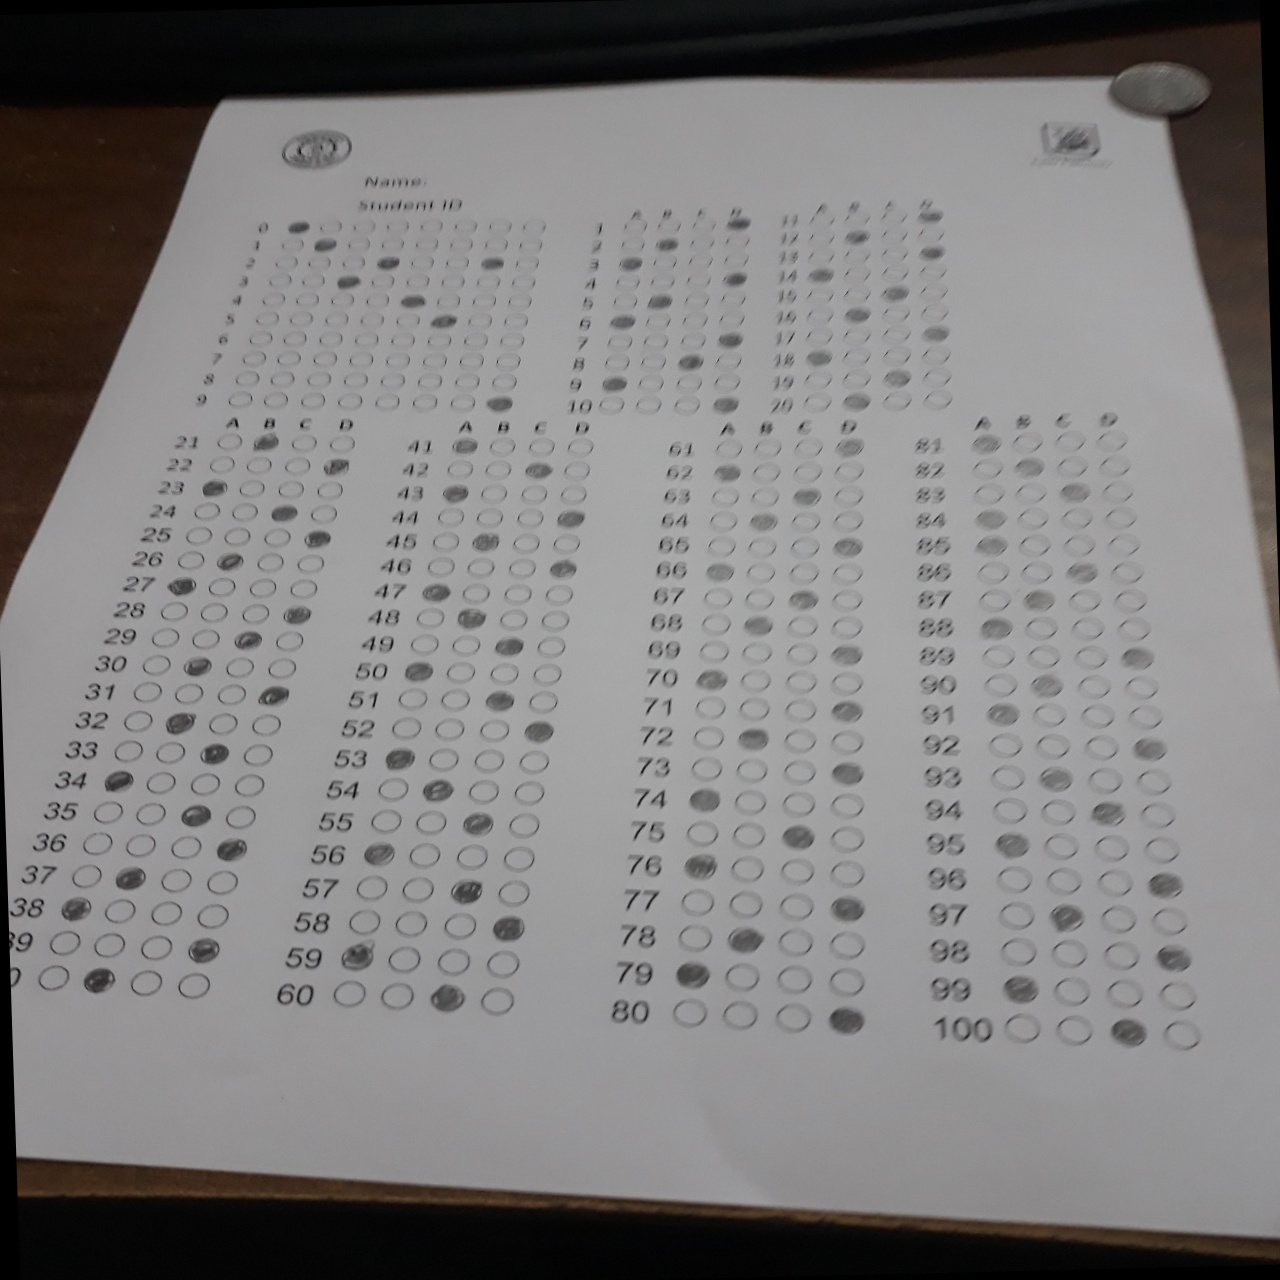not-c: (668, 995, 713, 1030), (673, 921, 716, 955), (775, 927, 817, 960), (720, 1001, 761, 1034), (1053, 1015, 1095, 1047), (1104, 978, 1143, 1012), (1101, 939, 1141, 972), (772, 1003, 813, 1035), (1144, 835, 1182, 869), (1097, 867, 1136, 900), (1099, 903, 1138, 935), (1005, 1009, 1041, 1043), (1138, 799, 1176, 832), (1075, 674, 1114, 704), (1087, 767, 1125, 797), (774, 891, 813, 920), (781, 757, 821, 787), (828, 728, 867, 757), (1117, 611, 1151, 645), (1067, 586, 1104, 617), (1070, 644, 1108, 674), (1055, 454, 1092, 484), (1051, 427, 1089, 457), (1009, 428, 1047, 458), (1054, 975, 1092, 1005), (726, 961, 764, 990), (726, 888, 764, 918), (779, 857, 818, 886), (825, 823, 864, 852), (781, 789, 819, 818), (690, 754, 729, 783), (779, 723, 818, 753), (1068, 615, 1107, 645), (1126, 702, 1165, 731), (1082, 734, 1121, 763), (1095, 835, 1131, 865), (1158, 982, 1196, 1012), (777, 965, 815, 994), (1123, 674, 1160, 703), (1078, 704, 1116, 734), (1162, 1021, 1200, 1049), (678, 887, 716, 915), (727, 821, 765, 849), (730, 785, 769, 813), (731, 755, 770, 783), (693, 722, 729, 751), (692, 692, 728, 721), (782, 693, 818, 722), (826, 968, 864, 996), (828, 930, 865, 958), (685, 819, 722, 847), (826, 790, 864, 818), (828, 667, 864, 695), (484, 948, 520, 976), (478, 986, 515, 1014), (379, 982, 415, 1010), (46, 927, 82, 955), (142, 932, 178, 960), (828, 862, 865, 888), (730, 855, 768, 881), (737, 693, 772, 721), (438, 946, 474, 974), (91, 930, 127, 958), (333, 980, 369, 1007), (176, 971, 212, 998), (195, 903, 231, 930), (67, 862, 103, 888), (1097, 452, 1133, 479), (1051, 940, 1089, 966), (127, 971, 162, 998), (36, 962, 72, 989), (995, 866, 1032, 892), (1153, 908, 1190, 934), (694, 638, 730, 663), (149, 899, 185, 925), (100, 898, 136, 924), (158, 867, 195, 893), (1095, 429, 1131, 455), (1102, 506, 1138, 532), (1110, 561, 1146, 587), (1041, 835, 1078, 859), (740, 639, 777, 663), (701, 584, 738, 608), (745, 461, 783, 485), (203, 866, 240, 891), (696, 611, 731, 636), (166, 835, 202, 860), (1099, 481, 1135, 506), (1107, 535, 1142, 560), (1047, 867, 1083, 892), (1000, 903, 1036, 927), (1001, 940, 1037, 965), (783, 667, 819, 692), (738, 667, 775, 692), (704, 508, 741, 532), (704, 483, 741, 508), (139, 651, 172, 678), (829, 587, 866, 611), (787, 508, 824, 531), (113, 738, 147, 764), (1114, 588, 1148, 614), (1039, 798, 1074, 823), (785, 641, 821, 666), (741, 532, 776, 557), (710, 437, 745, 462), (994, 797, 1026, 824), (401, 876, 433, 903), (743, 586, 779, 610), (831, 561, 867, 585), (789, 559, 825, 583), (742, 559, 778, 583), (788, 533, 824, 557), (829, 510, 865, 533), (830, 485, 866, 509), (829, 459, 865, 483), (787, 459, 823, 483), (748, 436, 784, 459), (990, 764, 1023, 790), (355, 873, 388, 899), (93, 799, 125, 825), (134, 799, 166, 825), (225, 801, 258, 826), (233, 772, 266, 798), (156, 738, 189, 764), (240, 740, 273, 765), (135, 679, 168, 704), (222, 653, 254, 679), (787, 613, 822, 636), (744, 485, 779, 509), (1137, 769, 1169, 795), (828, 615, 864, 638), (1033, 701, 1065, 726), (988, 733, 1021, 757), (467, 777, 499, 802), (415, 809, 448, 833), (508, 812, 540, 837), (455, 843, 488, 867), (409, 844, 442, 869), (188, 772, 220, 797), (145, 771, 178, 796), (215, 680, 247, 704), (377, 777, 411, 801), (428, 747, 458, 772), (349, 908, 380, 934), (703, 535, 738, 557), (787, 440, 822, 462), (1027, 645, 1058, 669), (512, 779, 544, 804), (444, 913, 476, 938), (389, 946, 421, 971), (83, 830, 115, 855), (172, 681, 204, 706), (1037, 734, 1070, 757), (370, 805, 403, 829), (501, 846, 533, 870), (207, 712, 240, 735), (986, 670, 1016, 695), (474, 747, 504, 771), (395, 912, 425, 937), (983, 644, 1015, 667), (481, 459, 512, 483), (497, 880, 529, 904), (124, 831, 156, 855), (123, 708, 155, 731), (190, 625, 222, 648), (188, 496, 219, 519), (564, 435, 594, 458), (524, 434, 554, 457), (558, 482, 588, 505), (397, 686, 428, 709), (259, 525, 290, 549), (223, 525, 253, 549), (183, 522, 213, 545), (307, 502, 338, 525), (237, 475, 267, 498), (1061, 505, 1092, 527), (447, 458, 478, 481), (434, 717, 465, 740), (481, 716, 512, 738), (244, 452, 275, 475), (553, 531, 583, 554), (506, 556, 536, 579), (451, 632, 481, 655), (445, 661, 475, 685), (519, 750, 549, 774), (256, 550, 285, 573), (1065, 533, 1096, 556), (1020, 532, 1050, 554), (1020, 560, 1050, 583), (980, 588, 1010, 611), (518, 482, 549, 504), (430, 529, 461, 551), (441, 689, 471, 712), (392, 717, 422, 740), (274, 628, 305, 651), (149, 624, 179, 646), (159, 598, 190, 620), (286, 576, 316, 598), (293, 550, 324, 572), (229, 501, 259, 523), (1017, 506, 1049, 527), (250, 712, 281, 733), (316, 477, 345, 501), (972, 458, 1005, 478), (561, 458, 591, 481), (486, 436, 516, 458), (478, 483, 508, 505), (435, 505, 464, 527), (464, 556, 493, 578), (501, 607, 530, 629), (491, 662, 520, 685), (267, 655, 297, 678), (199, 601, 229, 624), (239, 601, 268, 624), (179, 546, 209, 568), (274, 478, 304, 501), (206, 452, 236, 475), (979, 561, 1009, 583), (1024, 617, 1055, 638), (475, 506, 505, 527), (501, 581, 531, 602), (537, 636, 567, 658), (1014, 483, 1046, 503), (513, 532, 542, 554), (527, 692, 556, 714), (517, 506, 546, 527), (425, 554, 455, 576), (416, 606, 445, 627), (410, 633, 440, 654), (532, 663, 561, 685), (246, 576, 275, 597), (972, 484, 1005, 503), (545, 583, 576, 602), (461, 583, 491, 602), (207, 574, 236, 595), (227, 387, 256, 408), (540, 610, 570, 629), (236, 348, 265, 368), (215, 429, 243, 449), (232, 367, 260, 387), (674, 394, 701, 414), (676, 372, 703, 392), (285, 455, 313, 474), (326, 434, 354, 452), (288, 433, 316, 451), (254, 308, 282, 327), (318, 216, 346, 234), (806, 304, 835, 322), (806, 282, 835, 301), (845, 209, 873, 227), (840, 244, 869, 263), (883, 302, 911, 321), (924, 388, 952, 407), (359, 309, 384, 329), (486, 216, 512, 236), (273, 250, 300, 268), (311, 347, 338, 366), (680, 307, 707, 326), (803, 393, 830, 411), (804, 365, 831, 383), (881, 325, 908, 343), (881, 263, 908, 281), (881, 202, 908, 220), (922, 345, 949, 363), (805, 326, 833, 343), (806, 205, 835, 223), (842, 267, 870, 285), (842, 328, 870, 346), (883, 392, 911, 409), (919, 263, 947, 280), (920, 304, 948, 321), (266, 268, 292, 287), (349, 213, 375, 232), (384, 213, 410, 232), (338, 392, 363, 410), (390, 331, 416, 349), (395, 312, 421, 331), (680, 331, 706, 349), (683, 287, 709, 306), (278, 233, 305, 251), (522, 217, 549, 234), (644, 333, 670, 350), (686, 270, 713, 287), (685, 251, 712, 268), (692, 215, 719, 232), (808, 247, 835, 265), (810, 226, 837, 244), (843, 368, 870, 386), (880, 245, 907, 263), (880, 224, 907, 241), (918, 224, 945, 241), (318, 328, 342, 347), (342, 251, 367, 270), (376, 392, 401, 410), (387, 349, 411, 368), (452, 217, 477, 236), (258, 288, 284, 306), (305, 368, 331, 386), (324, 308, 349, 326), (331, 287, 356, 305), (343, 370, 369, 388), (406, 273, 431, 291), (418, 217, 444, 234), (455, 372, 481, 389), (468, 311, 493, 328), (508, 292, 533, 309), (599, 394, 625, 411), (604, 354, 629, 372), (606, 333, 632, 350), (628, 217, 654, 234), (645, 313, 670, 331), (843, 287, 869, 305), (845, 350, 871, 368), (884, 347, 910, 365), (921, 282, 947, 300), (246, 328, 273, 345), (493, 354, 520, 370), (719, 309, 745, 326), (715, 372, 742, 388), (921, 369, 948, 386), (347, 232, 372, 250), (379, 234, 403, 252), (367, 291, 392, 308), (354, 329, 379, 347), (347, 350, 372, 368), (470, 292, 495, 309), (486, 234, 511, 252), (519, 236, 544, 253), (653, 252, 678, 270), (640, 377, 665, 395), (271, 370, 297, 387), (380, 370, 406, 387), (409, 252, 435, 268), (450, 394, 476, 410), (463, 333, 489, 349), (477, 273, 503, 290), (515, 254, 540, 271), (511, 274, 537, 291), (502, 313, 527, 329), (501, 333, 526, 349), (490, 374, 516, 390), (617, 272, 642, 288), (622, 234, 648, 251), (659, 218, 685, 234), (649, 273, 675, 290), (636, 395, 662, 411), (723, 230, 749, 246), (723, 250, 749, 266), (716, 350, 742, 367), (301, 270, 325, 287), (449, 236, 472, 253), (423, 353, 450, 368), (306, 252, 331, 268), (288, 311, 313, 327), (275, 350, 300, 367), (265, 390, 290, 407), (299, 392, 324, 408), (370, 273, 395, 290), (416, 232, 441, 248), (458, 352, 483, 368), (612, 290, 636, 306), (640, 358, 665, 374), (417, 373, 445, 387), (411, 395, 440, 409), (441, 274, 467, 290), (425, 334, 451, 349), (689, 233, 715, 248), (720, 290, 745, 305), (294, 291, 318, 307), (282, 331, 306, 347), (437, 293, 461, 308), (445, 256, 470, 270)
taken-c: (1103, 1014, 1149, 1051), (776, 821, 817, 855), (727, 922, 765, 956), (82, 965, 118, 998), (687, 783, 724, 813), (738, 719, 776, 749), (826, 1006, 863, 1036), (683, 851, 720, 881), (828, 760, 864, 790), (695, 665, 731, 695), (674, 958, 712, 987), (829, 640, 866, 669), (340, 941, 377, 971), (1064, 557, 1101, 586), (1003, 973, 1040, 1002), (828, 896, 864, 925), (830, 696, 866, 726), (358, 839, 395, 867), (486, 913, 525, 940), (428, 985, 467, 1012), (1155, 944, 1190, 973), (1049, 904, 1085, 932), (447, 876, 484, 903), (1020, 586, 1058, 612), (1033, 767, 1071, 792), (114, 864, 148, 893), (1146, 871, 1182, 899), (188, 937, 222, 965), (57, 893, 91, 921), (215, 835, 248, 863), (177, 799, 211, 828), (992, 832, 1030, 857), (248, 428, 284, 455), (104, 765, 137, 794), (196, 743, 229, 771), (161, 707, 195, 734), (983, 702, 1020, 727), (1131, 736, 1167, 761), (318, 455, 352, 481), (1091, 803, 1126, 828), (1029, 673, 1065, 696), (1119, 646, 1155, 669), (741, 614, 772, 640), (257, 681, 288, 707), (231, 625, 263, 651), (1013, 456, 1049, 478), (968, 430, 1005, 452), (971, 506, 1007, 529), (979, 617, 1015, 639), (265, 501, 299, 524), (704, 557, 735, 583), (831, 433, 862, 458), (279, 599, 309, 625), (215, 549, 245, 574), (1057, 481, 1092, 503), (983, 536, 1019, 558), (788, 587, 819, 612), (789, 484, 821, 509), (440, 481, 471, 505), (549, 556, 580, 580), (384, 745, 416, 770), (448, 431, 481, 455), (195, 475, 227, 498), (832, 537, 863, 561), (179, 653, 210, 678), (747, 506, 778, 530), (520, 457, 552, 481), (470, 531, 502, 554), (421, 779, 452, 803), (917, 322, 953, 342), (709, 459, 740, 483), (552, 506, 583, 530), (493, 634, 524, 658), (402, 661, 433, 685), (486, 688, 517, 712), (525, 721, 556, 744), (463, 813, 493, 837), (418, 580, 450, 602), (455, 607, 486, 629), (299, 527, 332, 549), (166, 574, 196, 598), (912, 205, 948, 224), (915, 243, 949, 263), (840, 393, 872, 414), (843, 304, 874, 325), (599, 374, 629, 392), (808, 265, 838, 282), (282, 218, 312, 236), (605, 313, 634, 331), (647, 292, 676, 309), (675, 352, 704, 369), (716, 331, 745, 348), (884, 370, 913, 388), (881, 282, 908, 301), (719, 270, 749, 286), (479, 254, 505, 273), (726, 212, 755, 229), (712, 397, 742, 413), (485, 395, 513, 411), (649, 234, 678, 251), (618, 253, 647, 268), (844, 229, 869, 246), (813, 350, 842, 366), (427, 314, 456, 328), (399, 294, 427, 308), (334, 274, 363, 287), (375, 256, 400, 271), (308, 238, 335, 251)
